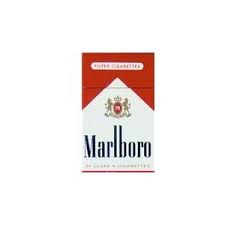marlboro: (82, 53, 153, 173)
